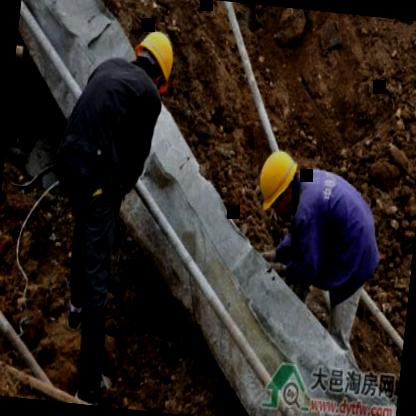helmet: (250, 141, 308, 226), (130, 23, 180, 96)
